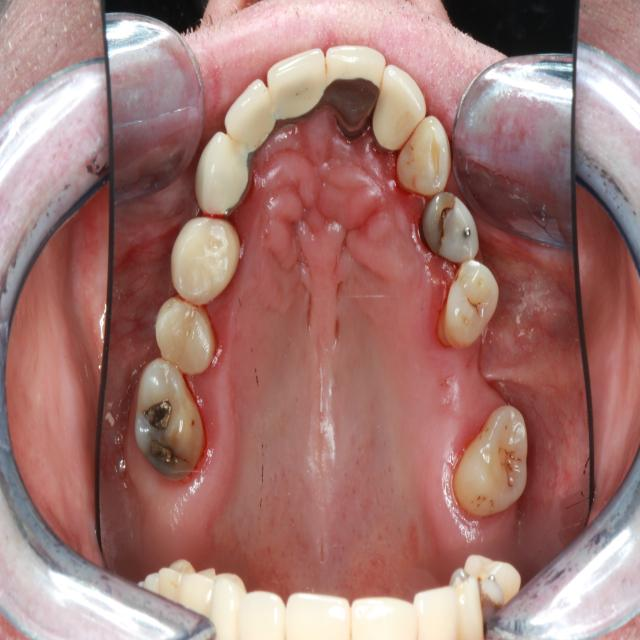tooth: (125, 357, 215, 491), (448, 396, 535, 530), (165, 201, 251, 309), (432, 249, 504, 355), (323, 36, 389, 150), (148, 281, 225, 377), (371, 47, 429, 163), (190, 118, 254, 223), (392, 99, 457, 201), (413, 181, 484, 272), (264, 45, 329, 124), (223, 70, 277, 156)
